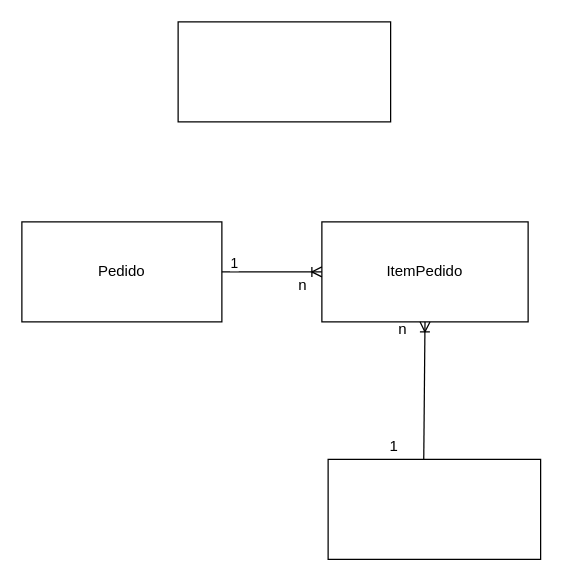
This 563x581 diagram has some shape labels left out. The shapes that lost their labels are listed below. From the top down, each one's box as (x1, y1, x2, y2) in pixels, then its label:
(177, 21, 391, 122): Administrador
(327, 458, 541, 559): Produto
